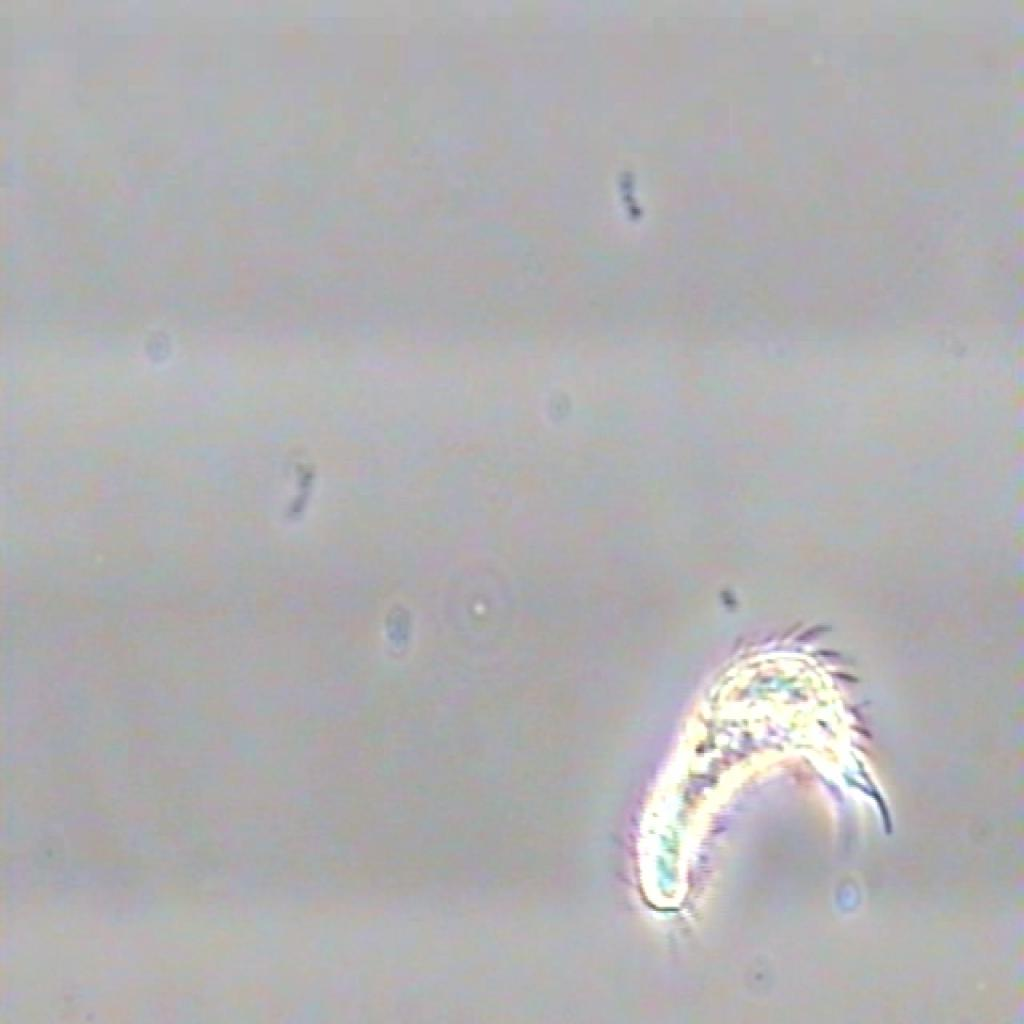Chaetonotus: (610, 618, 923, 938)
